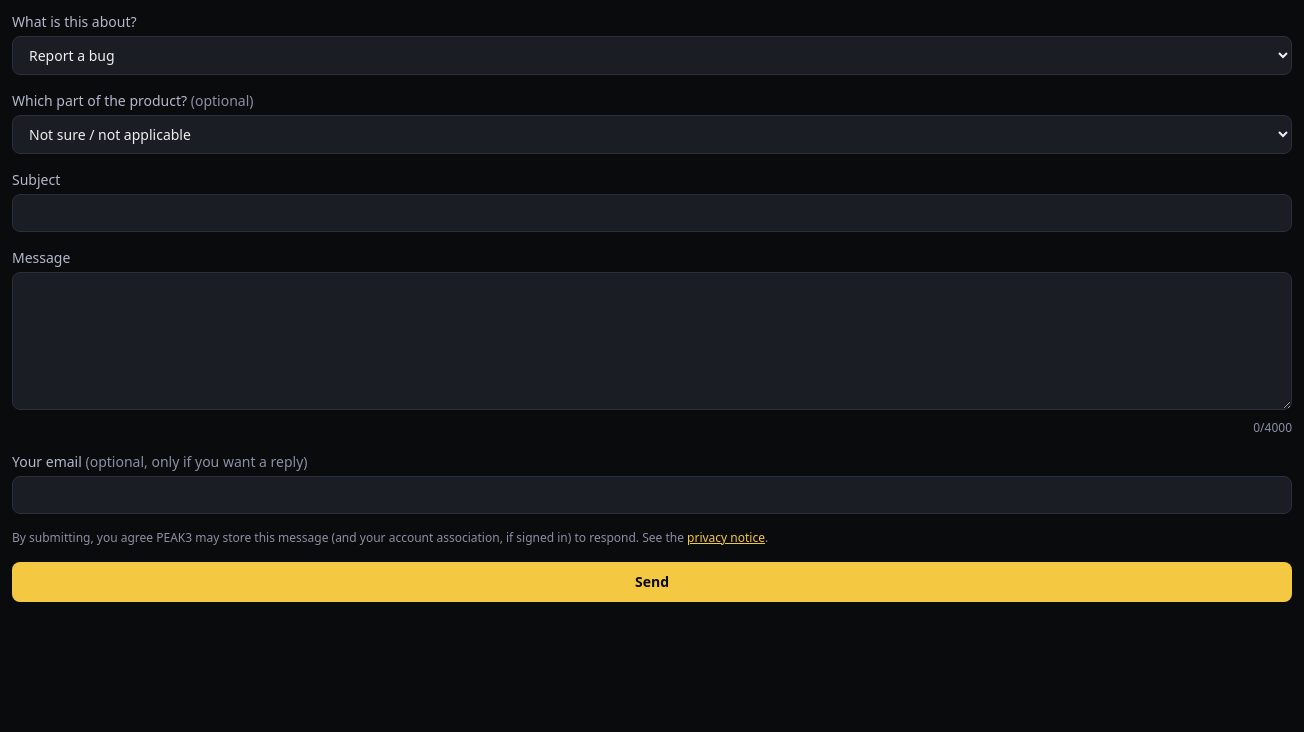
Test: ContactForm › surfaces a submission error
In the field with test id "contact-subject": (652, 213) [12, 194, 1292, 232], type "A bug"
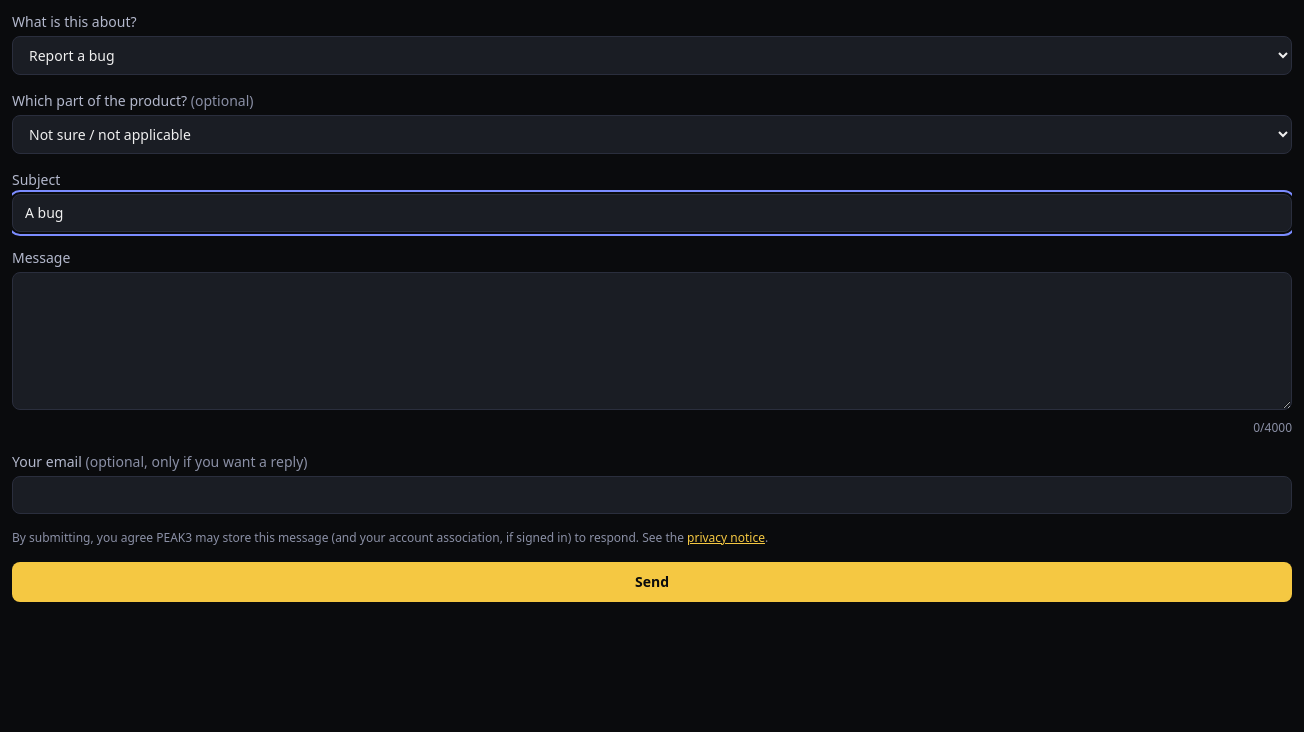
In the text box with test id "contact-message": (652, 341) [12, 272, 1292, 410], type "It broke."
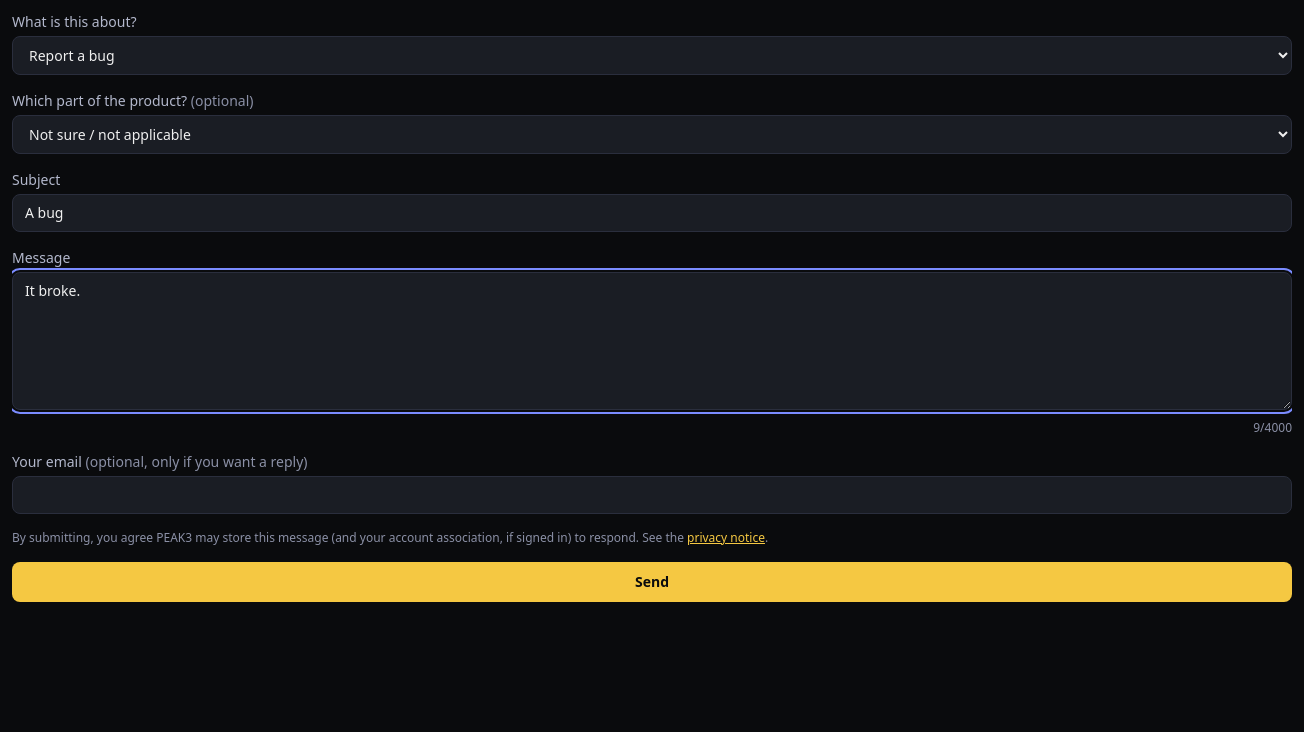
Click the button with test id "contact-form-submit": (652, 582) [12, 562, 1292, 602]
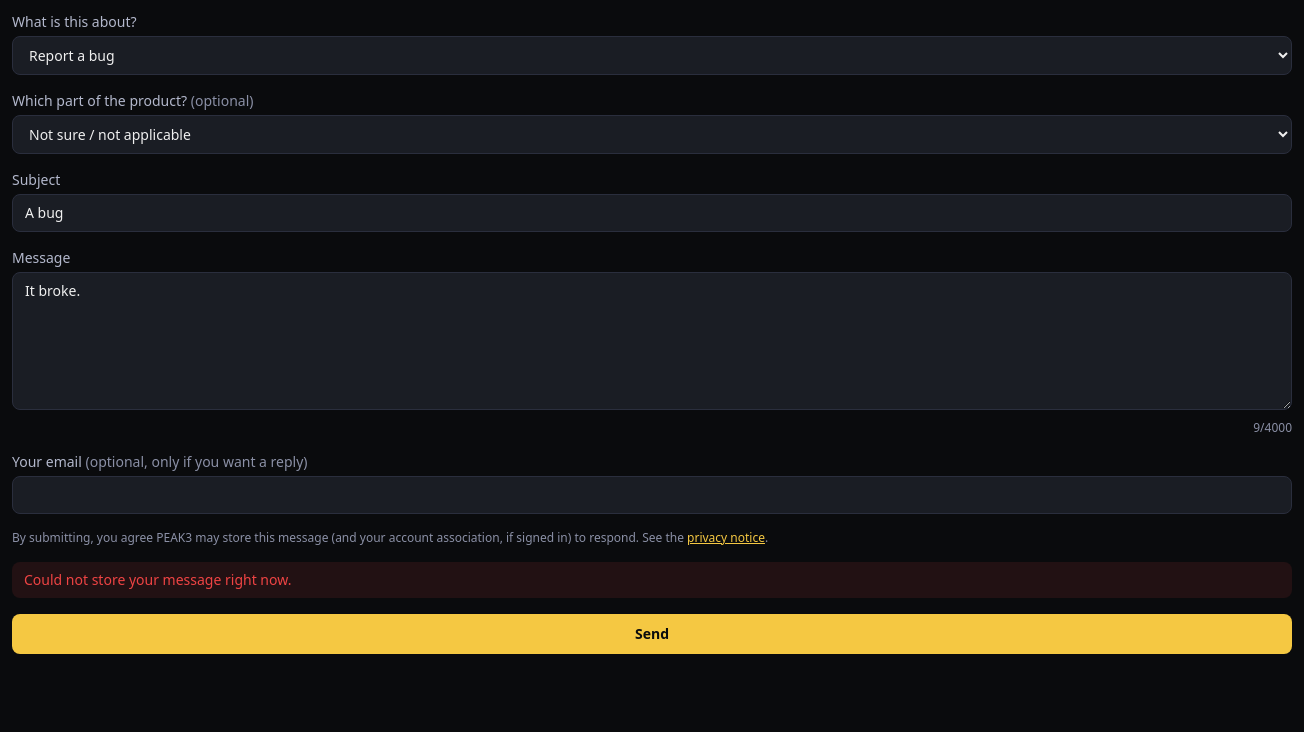
expect the message with test id "contact-form-error" shows "Could not store": met, box [24, 570, 291, 589]
